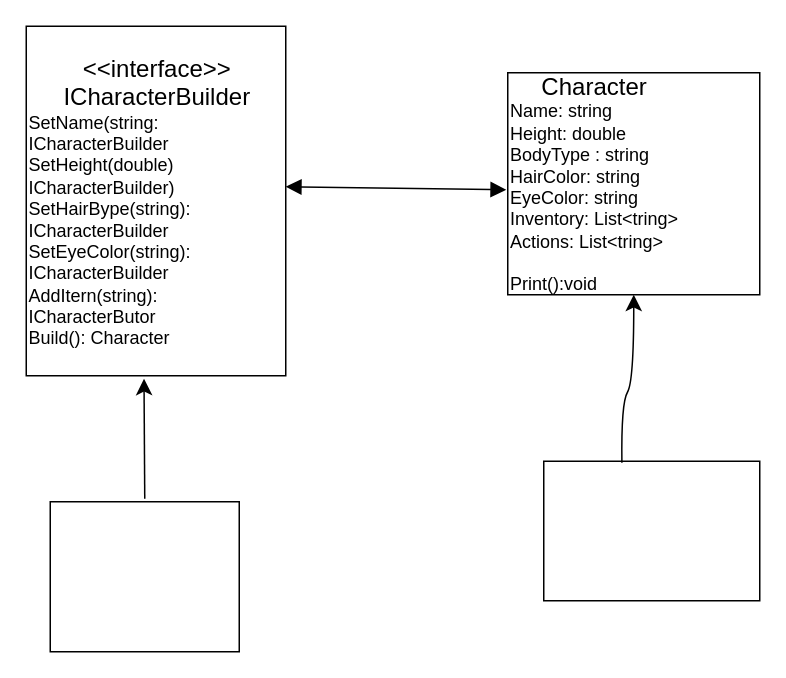
Image size: 786x678. Some labels were removed from this diagram. The shapes that lost their labels are listed below. From the top down, each one's centre as x and y in pixels, then its label:
the point at 651,530: CharacterDirector CreateHero (ICharacterBuilder): Character CreateEnemy()
the point at 144,576: HeroBuilder AddGoodDeed (string): HerroBuilder
